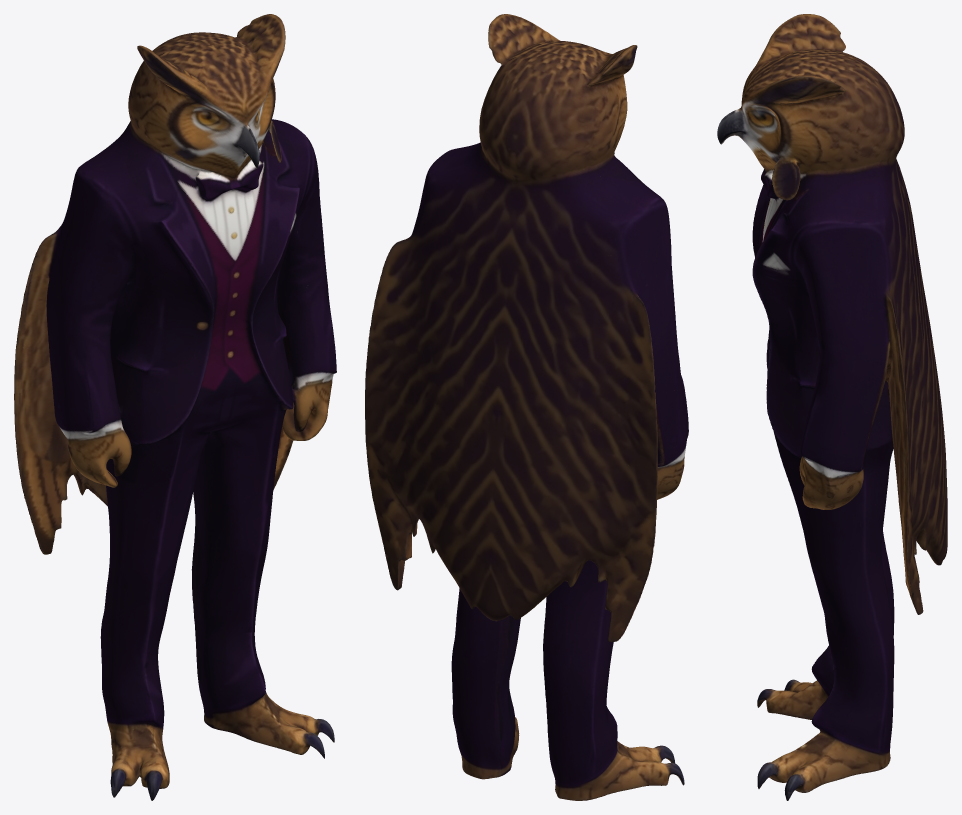
The model's file is barao_detailed.glb.
The picture shows the model from 3 angles, left to right: view 1: azimuth 30°, elevation 25°; view 2: azimuth 150°, elevation 25°; view 3: azimuth 270°, elevation 25°; orthographic projection. The views are drawn at different scales.
Parts seen in each view (by area): view 1: mesh_node; view 2: mesh_node; view 3: mesh_node.
Part boxes in pixels (x1,y1,x2,y2): mesh_node: (14,14,336,800); mesh_node: (365,14,688,800); mesh_node: (717,14,947,800).
Size of the model in its own units: 0.7938 by 1.9 by 0.5636.
Materials: 1 (1 with a texture image).
